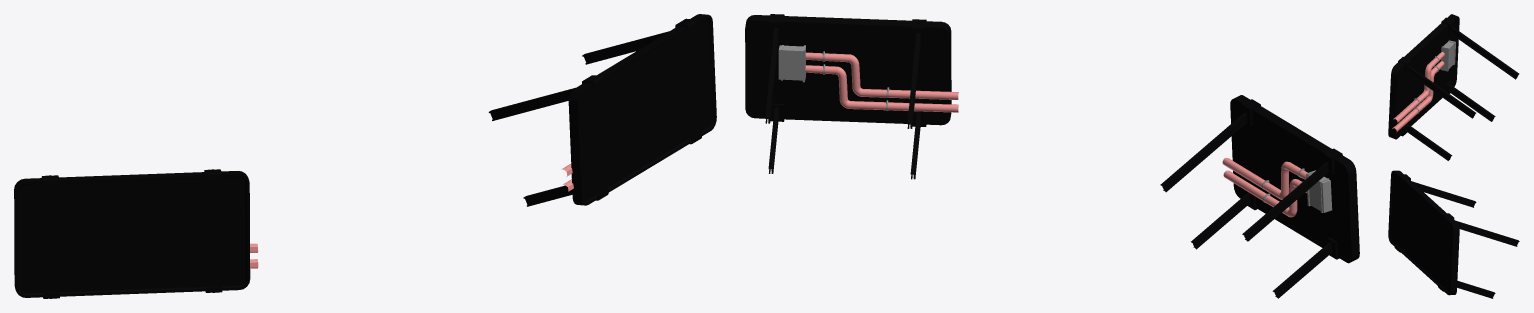
File: SM_ENV_LKNVLD03_VideoScreen_B.gltf
3 views of the same model, side by side, from view 1: azimuth 30°, elevation 25°; view 2: azimuth 150°, elevation 25°; view 3: azimuth 270°, elevation 25° (orthographic). The views are drawn at different scales.
Visible parts, largest first — view 1: SM_ENV_LKNVLD03_VideoScreen_B; view 2: SM_ENV_LKNVLD03_VideoScreen_B; view 3: SM_ENV_LKNVLD03_VideoScreen_B.
Boxes of the visible parts, x1,y1,x2,y2 form: SM_ENV_LKNVLD03_VideoScreen_B: (14, 14, 716, 298); SM_ENV_LKNVLD03_VideoScreen_B: (745, 14, 1359, 298); SM_ENV_LKNVLD03_VideoScreen_B: (1388, 14, 1519, 298).
Size of the model in its own units: 25.2 by 5.09 by 6.53.
